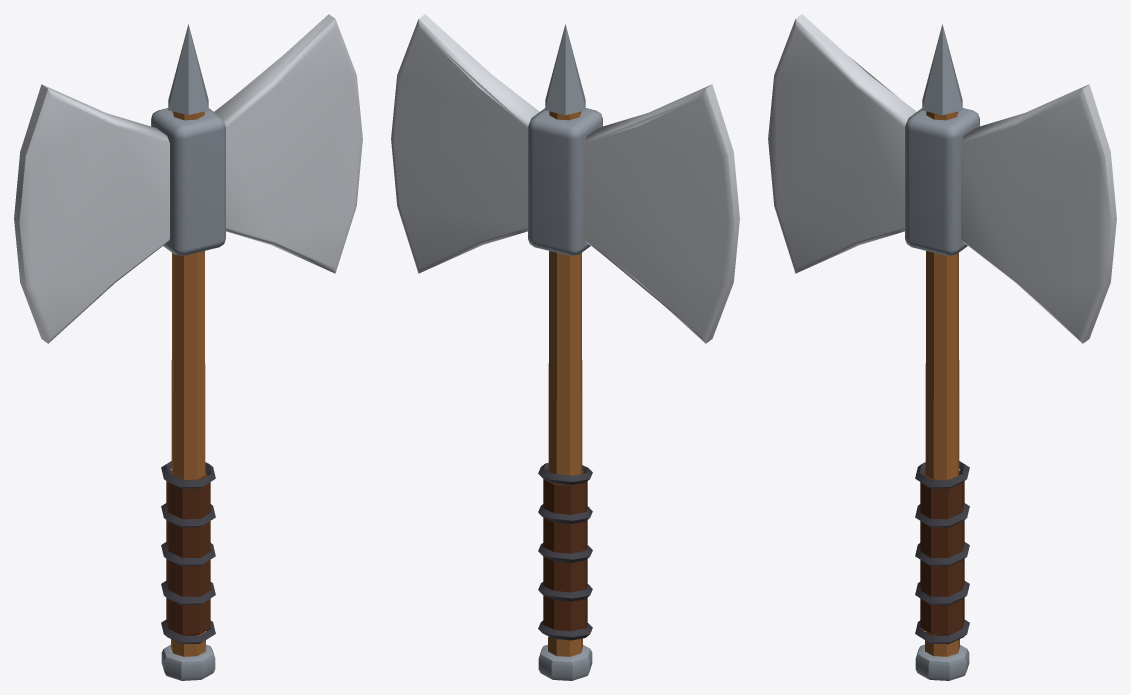
Rendered from IronBattleAxe.fbx.
The picture shows the model from 3 angles, left to right: view 1: azimuth 30°, elevation 25°; view 2: azimuth 150°, elevation 25°; view 3: azimuth 330°, elevation 25°; orthographic projection.
Visible parts, largest first — view 1: IronBattleAxe; view 2: IronBattleAxe; view 3: IronBattleAxe.
Boxes of the visible parts, x1,y1,x2,y2 form: IronBattleAxe: (14, 14, 362, 680); IronBattleAxe: (391, 14, 739, 680); IronBattleAxe: (768, 14, 1116, 680).
Bounding box in the file's own units: 2.2 × 3.97 × 0.34.
Materials: 1 (1 with a texture image).
